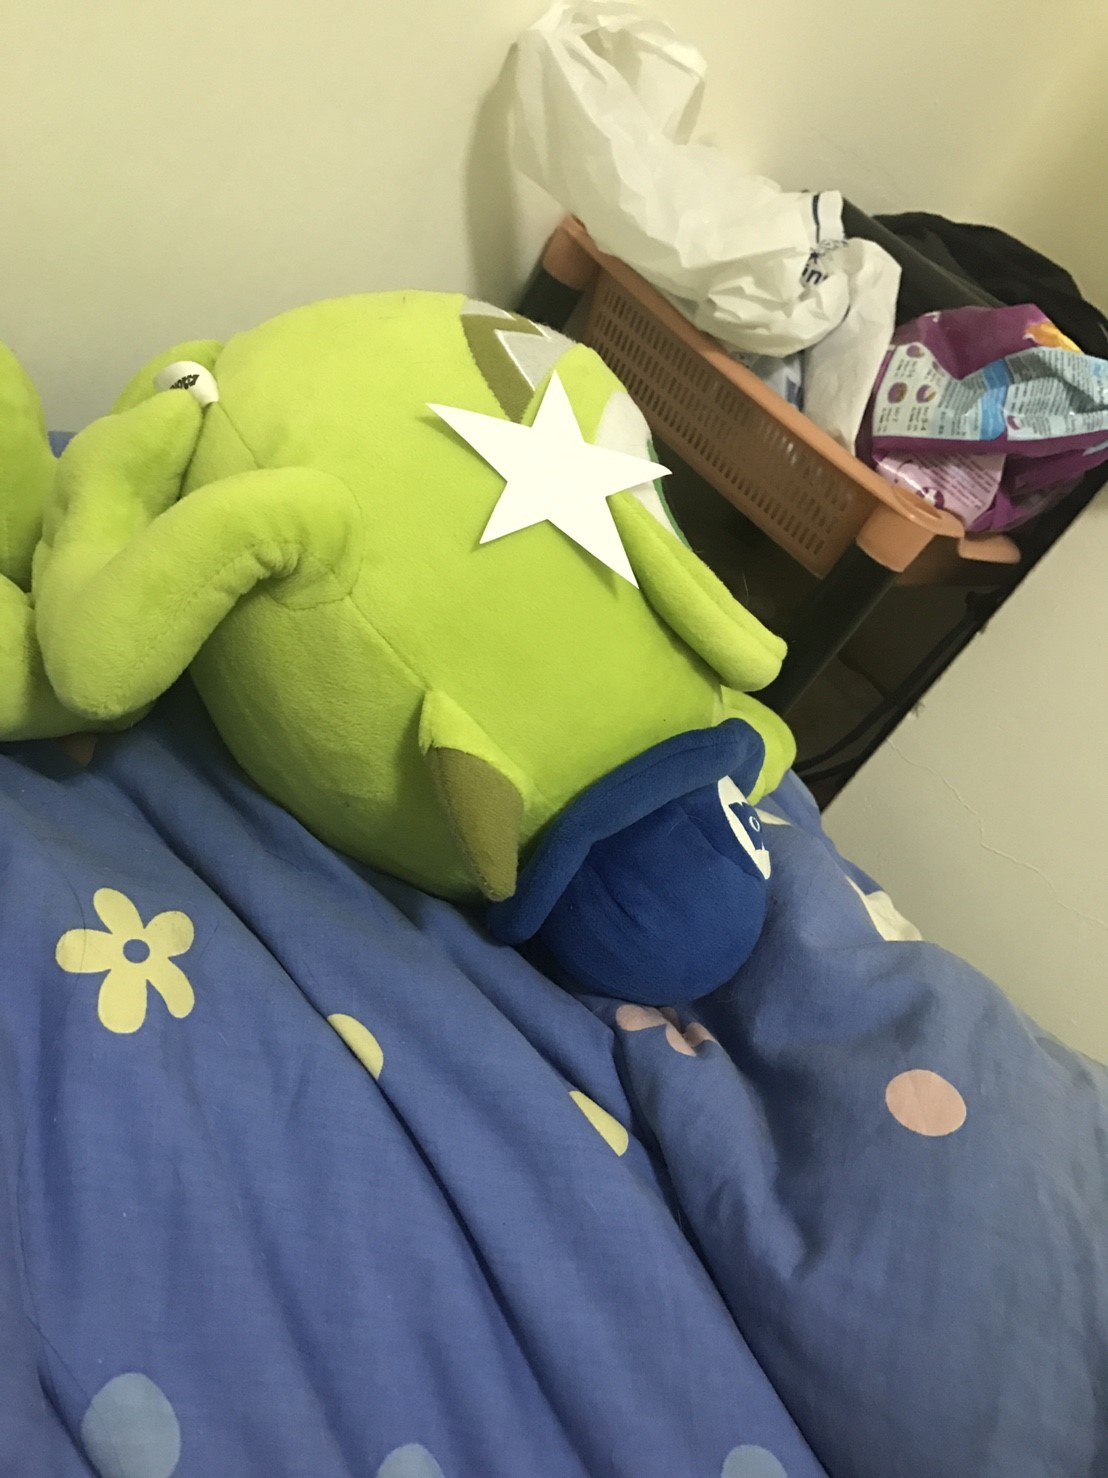star: (427, 354, 703, 604)
